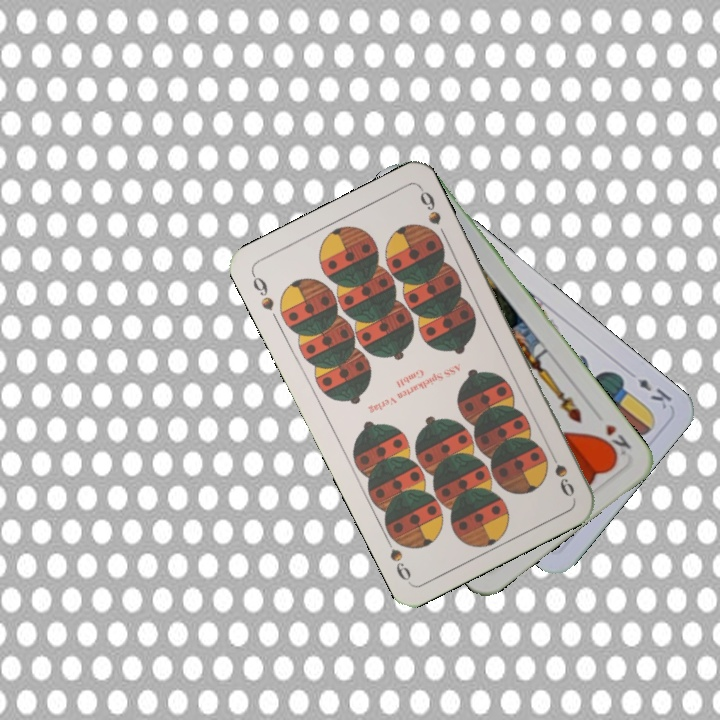EK: (633, 374, 675, 412)
HK: (596, 419, 634, 461)
S9: (543, 444, 577, 500), (247, 269, 277, 313)
